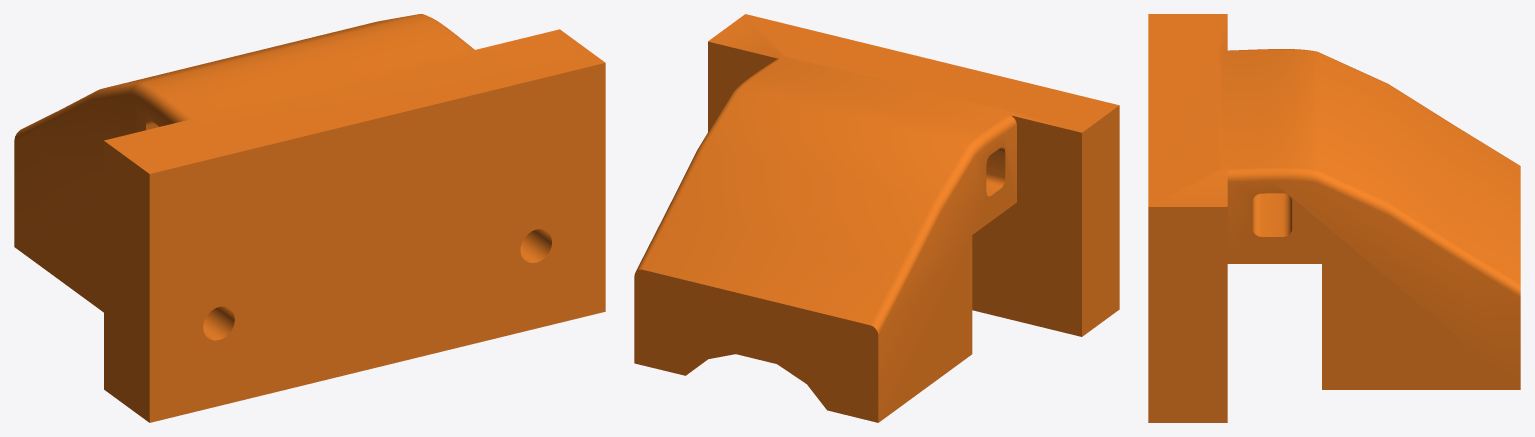
The picture shows the model from 3 angles, left to right: view 1: azimuth 30°, elevation 25°; view 2: azimuth 150°, elevation 25°; view 3: azimuth 270°, elevation 25°; orthographic projection. The views are drawn at different scales.
Visible parts, largest first — view 1: finger_left; view 2: finger_left; view 3: finger_left.
Boxes of the visible parts, x1,y1,x2,y2 form: finger_left: (14, 14, 605, 422); finger_left: (634, 14, 1119, 422); finger_left: (1148, 14, 1520, 422).
Size of the model in its own units: 0.046 by 0.0243 by 0.0375.
